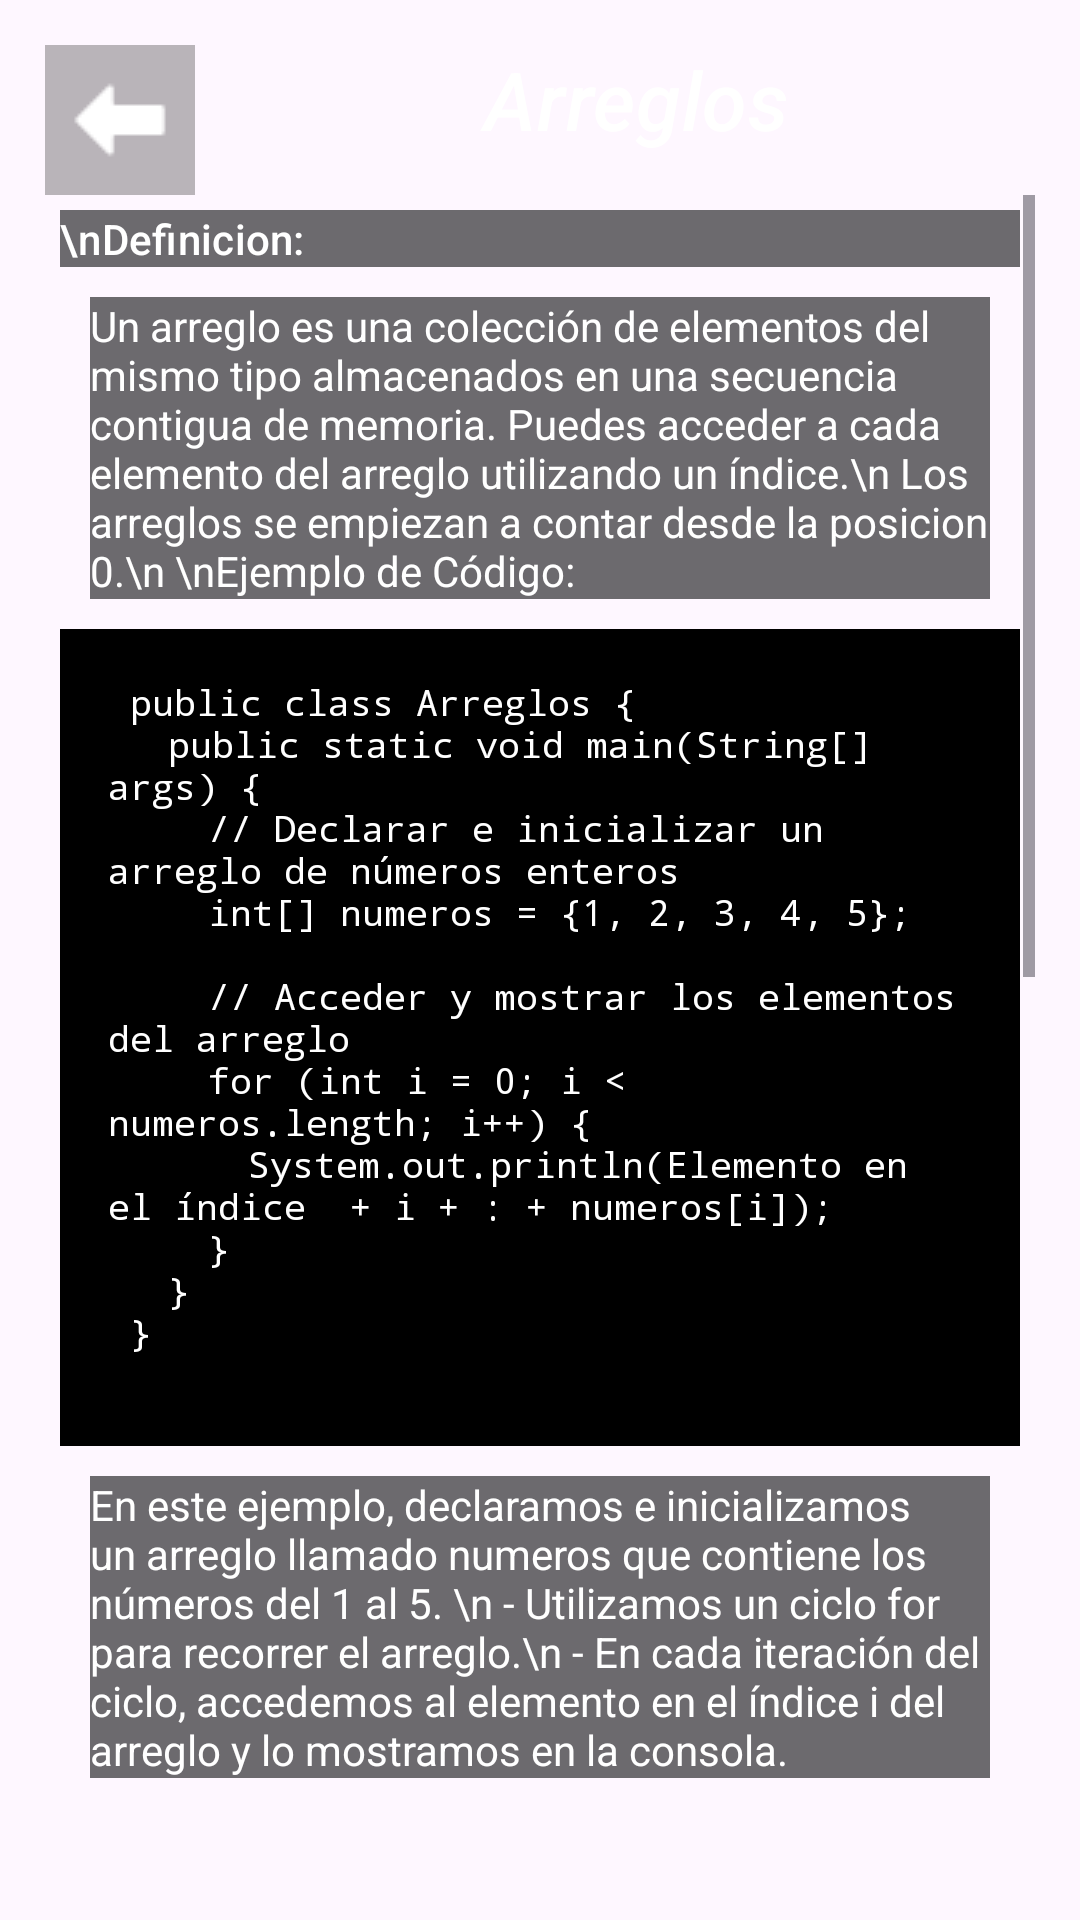

Icon bounding boxes for this 1080px×1920px phone screenshot, format [x1,y1,x2,y2]:
buttonback: [45,45,195,195]
